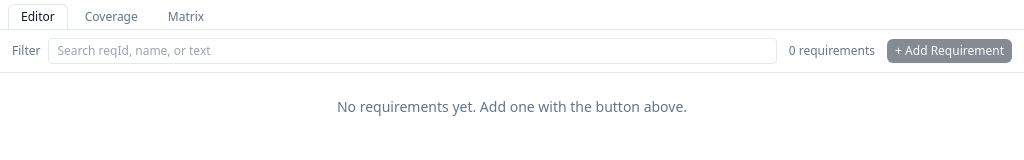
it: <RequirementsSurface /> — Matrix tab › clicking the Matrix tab swaps panels, updates store, and mounts the matrix panel
Click the tab with test id "requirements-tab-matrix-button": (186, 16) [155, 4, 217, 29]
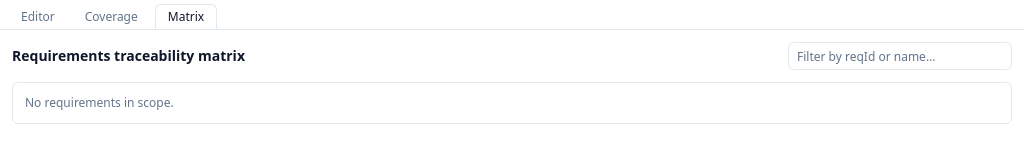
Now the panel with test id "requirements-matrix-tabpanel" is shown
Now the element with test id "requirements-matrix-panel" is shown
